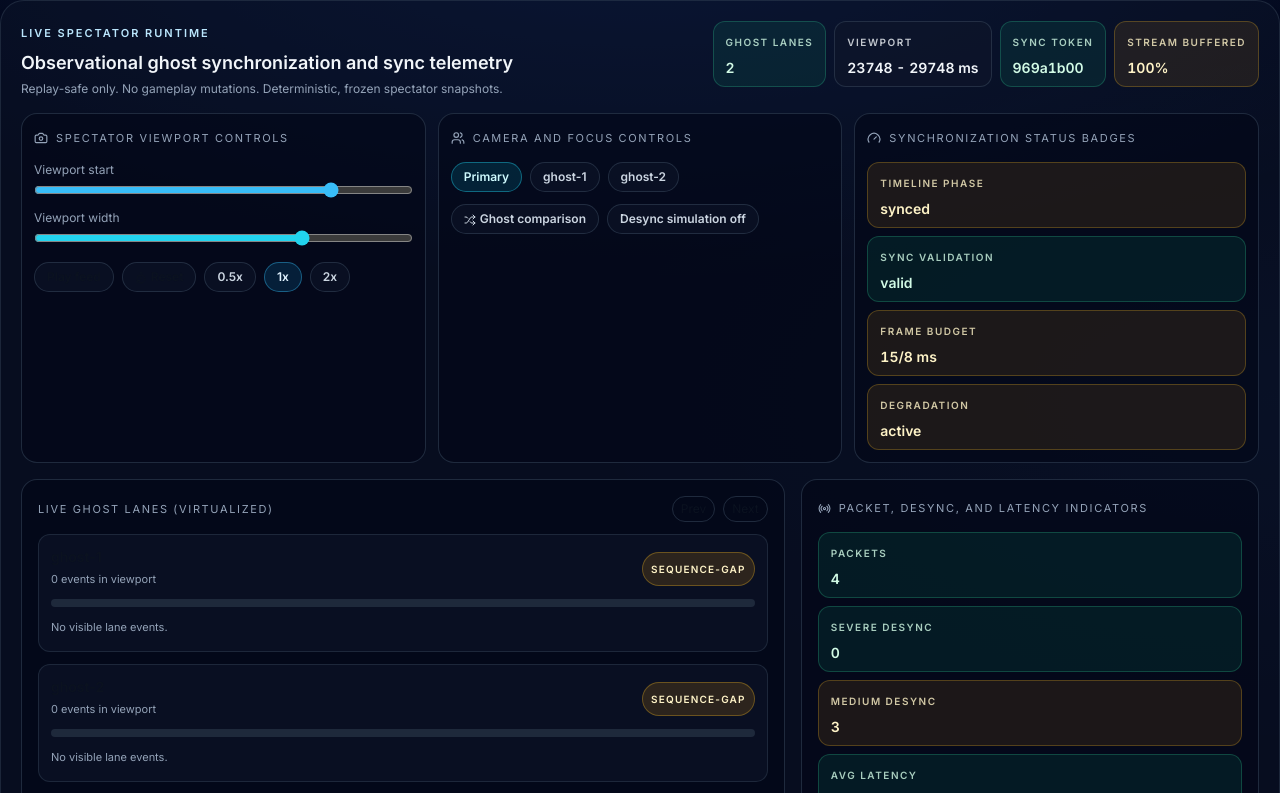
Test: SpectatorPanel › shows desync visualization indicators when simulation is enabled
Step 1. Click the button "Desync simulation off" → (683, 219), box left=607, top=204, right=759, bottom=234
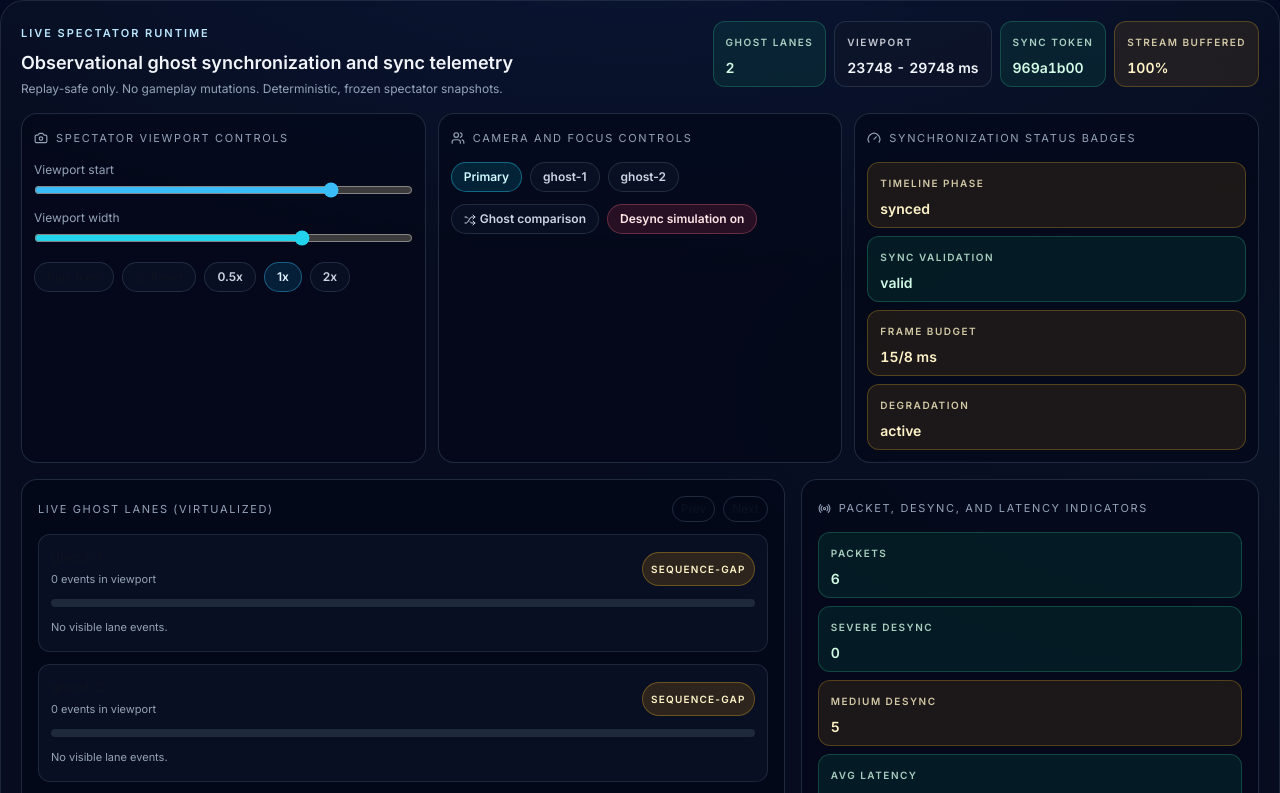
Expected: the text "Severe desync" is shown, left=831, top=621, right=933, bottom=633
Result: the button "Desync simulation on" is shown at left=607, top=204, right=757, bottom=234
